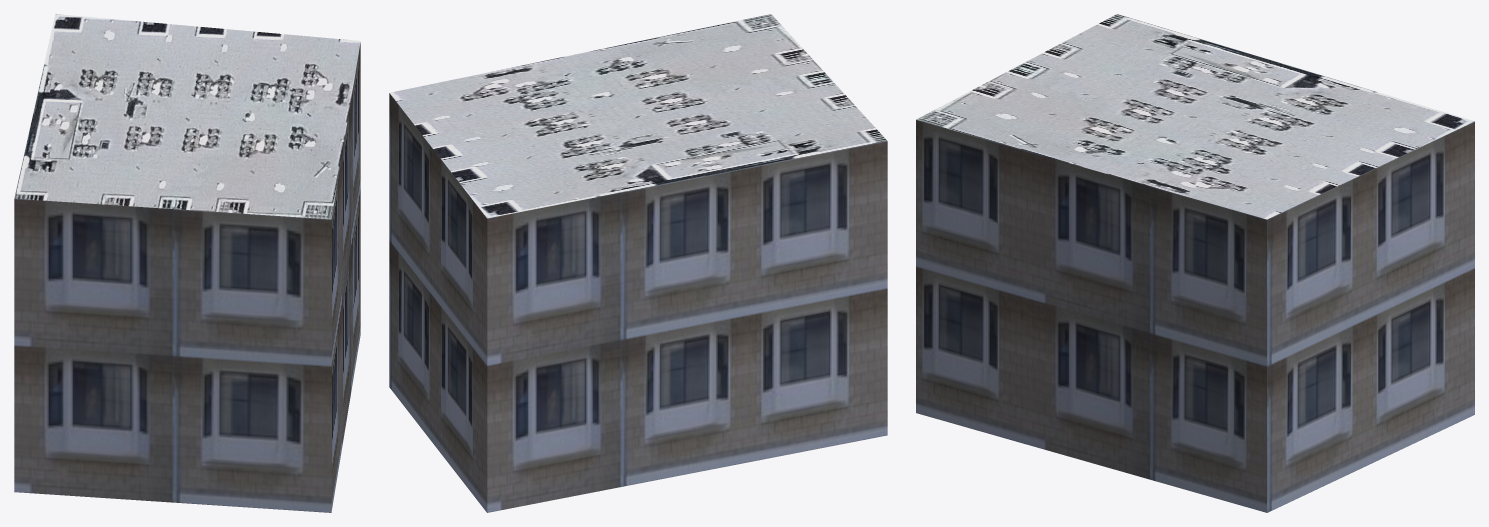
File: ResTex__4621.fbx
3 views of the same model, side by side, from view 1: azimuth 30°, elevation 25°; view 2: azimuth 150°, elevation 25°; view 3: azimuth 270°, elevation 25° (orthographic).
Parts seen in each view (by area): view 1: CityEngineMaterial_3_m, CityEngineMaterial_8_m; view 2: CityEngineMaterial_3_m, CityEngineMaterial_8_m; view 3: CityEngineMaterial_3_m, CityEngineMaterial_8_m.
Boxes of the visible parts, x1,y1,x2,y2 form: CityEngineMaterial_3_m: (14,42,360,512); CityEngineMaterial_8_m: (14,14,360,219); CityEngineMaterial_3_m: (389,93,887,512); CityEngineMaterial_8_m: (389,14,887,218); CityEngineMaterial_3_m: (916,119,1474,512); CityEngineMaterial_8_m: (916,14,1474,219).
Size of the model in its own units: 9.02 by 6 by 10.36.
Materials: 2 (2 with a texture image).
